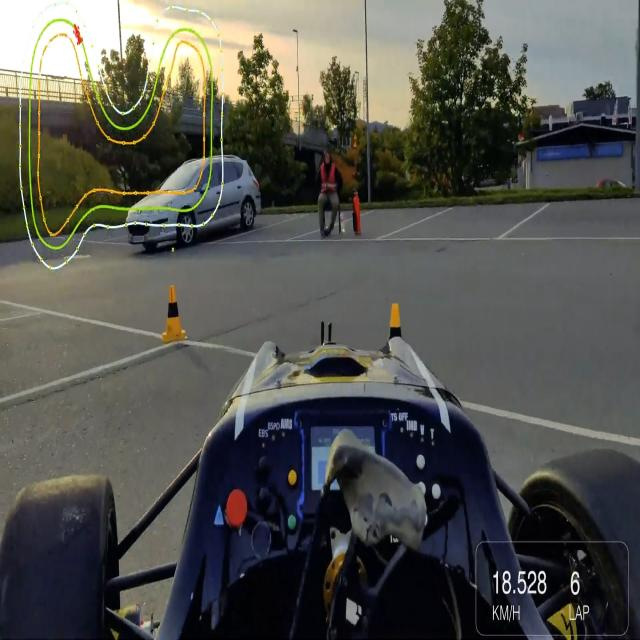yellow_cone: (153, 270, 199, 357), (378, 299, 418, 367)
